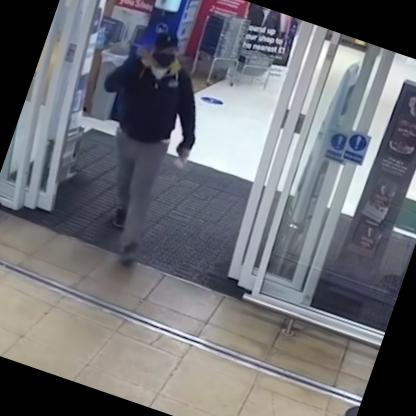Human Body: (40, 6, 238, 286)
